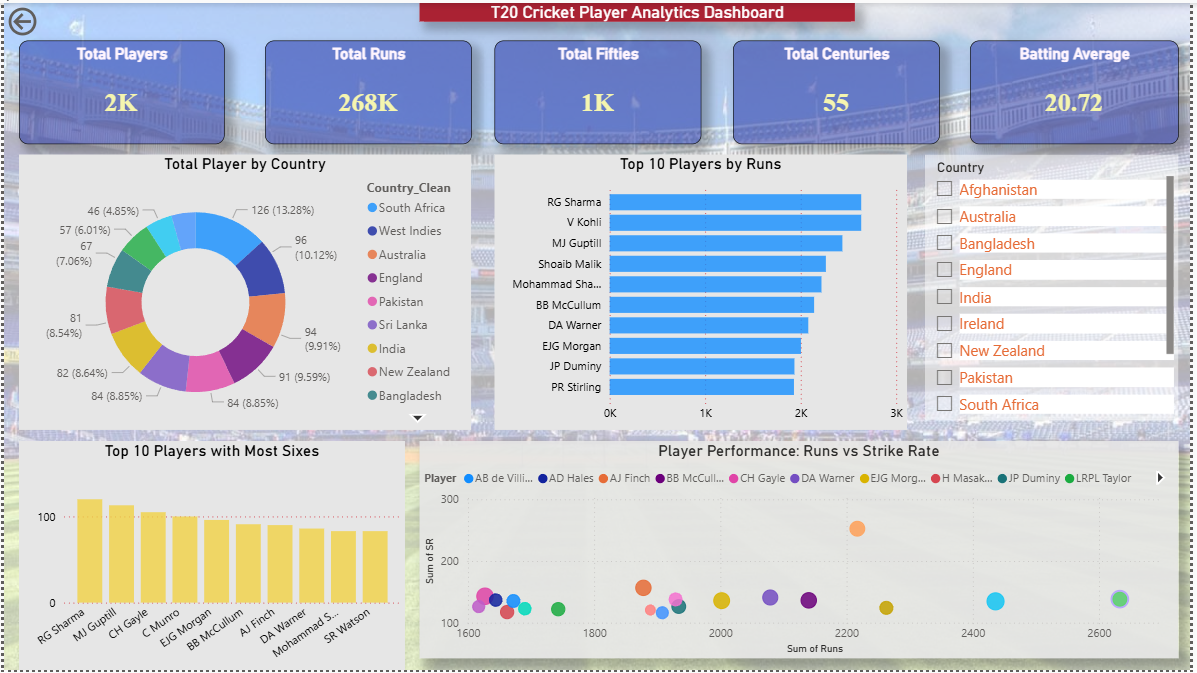

This screenshot's page, from the dashboard's own definition file:
{"tool":"powerbi","page":{"name":"Page 1","canvas":[1280,720],"ordinal":0},"visuals":[{"type":"cardVisual","title":"Total Players","fields":{"Data":["Sheet1.Total Players"]},"box":[16.7,40,221.7,111.7],"z":0},{"type":"cardVisual","title":"Total Centuries","fields":{"Data":["Sheet1.Total Centuries"]},"box":[786.7,40,223.3,111.7],"z":1000},{"type":"cardVisual","title":"Total Fifties","fields":{"Data":["Sheet1.Total Fifties"]},"box":[530,40,223.3,111.7],"z":2000},{"type":"cardVisual","title":"Total Runs","fields":{"Data":["Sheet1.Total Runs"]},"box":[281.7,40,223.3,111.7],"z":3000},{"type":"cardVisual","title":"Batting Average","fields":{"Data":["Sheet1.Batting Average"]},"box":[1043.3,40,225,111.7],"z":4000},{"type":"clusteredBarChart","title":"Top 10 Players by Runs","fields":{"Category":["Sheet1.Player"],"Y":["Sum(Sheet1.Runs)"]},"box":[529.7,163.8,445.4,297.4],"z":5000},{"type":"donutChart","title":"Total Player by Country","fields":{"Y":["Count(Sheet1.Player)"],"Category":["Sheet1.Country_Clean"]},"box":[15.9,163.8,488.3,297.4],"z":6000},{"type":"columnChart","title":"Top 10 Players with Most Sixes ","fields":{"Category":["Sheet1.Player"],"Y":["Sum(Sheet1.6s)"]},"box":[15.9,472.4,416.7,248.1],"z":7000},{"type":"slicer","fields":{"Values":["Sheet1.Country_Clean"]},"box":[994.2,163.5,273.6,286.6],"z":8000},{"type":"scatterChart","title":"Player Performance: Runs vs Strike Rate","fields":{"X":["Sum(Sheet1.Runs)"],"Y":["Sum(Sheet1.SR)"],"Size":["Sum(Sheet1.6s)"],"Series":["Sheet1.Player"]},"box":[448.5,472.8,819.3,234.8],"z":9000},{"type":"actionButton","box":[0,0,100,40],"z":10000},{"type":"textbox","title":"T20 Cricket Player Analytics Dashboard","box":[448.3,0,470,20],"z":11000}]}

Visuals, with their boxes in screenshot pixels (x1, y1, x2, y2), scaled from the page's 1280x720 canvas onto the 1197x673 screenshot:
"Total Players" cardVisual: {"x1": 16, "y1": 37, "x2": 223, "y2": 142}
"Total Centuries" cardVisual: {"x1": 736, "y1": 37, "x2": 945, "y2": 142}
"Total Fifties" cardVisual: {"x1": 496, "y1": 37, "x2": 704, "y2": 142}
"Total Runs" cardVisual: {"x1": 263, "y1": 37, "x2": 472, "y2": 142}
"Batting Average" cardVisual: {"x1": 976, "y1": 37, "x2": 1186, "y2": 142}
"Top 10 Players by Runs" clusteredBarChart: {"x1": 495, "y1": 153, "x2": 912, "y2": 431}
"Total Player by Country" donutChart: {"x1": 15, "y1": 153, "x2": 472, "y2": 431}
"Top 10 Players with Most Sixes " columnChart: {"x1": 15, "y1": 442, "x2": 405, "y2": 672}
slicer - Sheet1.Country_Clean: {"x1": 930, "y1": 153, "x2": 1186, "y2": 421}
"Player Performance: Runs vs Strike Rate" scatterChart: {"x1": 419, "y1": 442, "x2": 1186, "y2": 661}
actionButton: {"x1": 0, "y1": 0, "x2": 94, "y2": 37}
"T20 Cricket Player Analytics Dashboard" textbox: {"x1": 419, "y1": 0, "x2": 859, "y2": 19}
